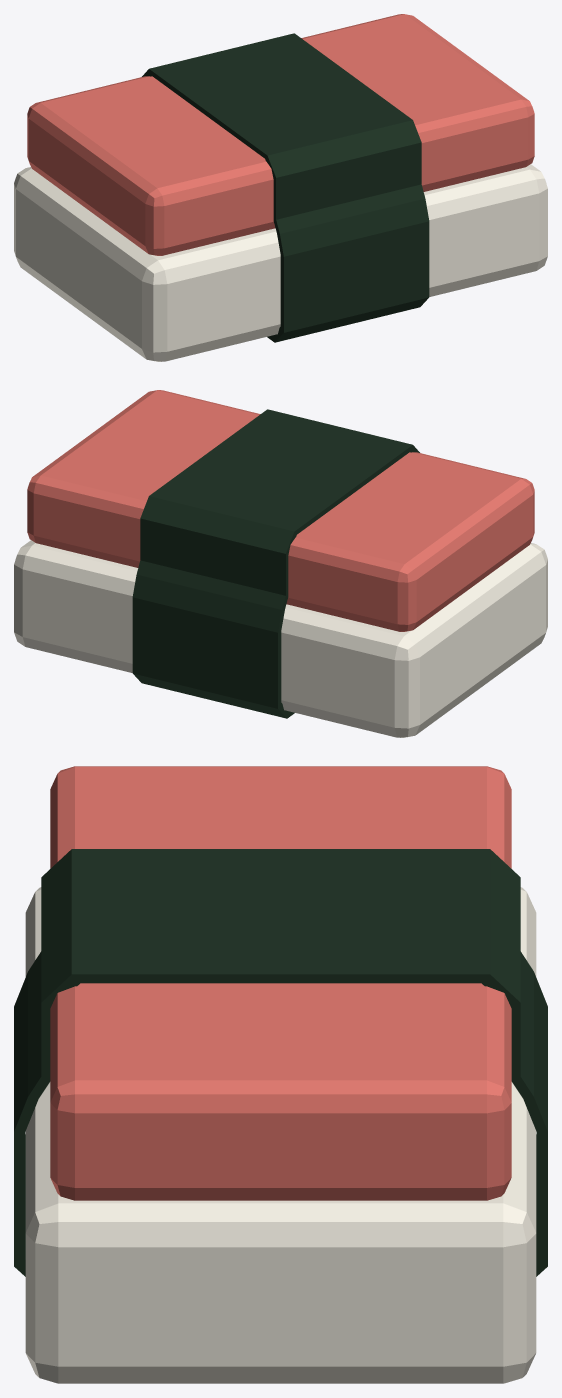
Rendered from musubi.glb.
The picture shows the model from 3 angles, top to bottom: view 1: azimuth 30°, elevation 25°; view 2: azimuth 150°, elevation 25°; view 3: azimuth 270°, elevation 25°; orthographic projection. The views are drawn at different scales.
Parts seen in each view (by area): view 1: musubi; view 2: musubi; view 3: musubi.
Part boxes in pixels (box(x1,y1,x2,y2)): musubi: box(14, 14, 547, 361); musubi: box(14, 390, 547, 737); musubi: box(14, 766, 547, 1383).
Bounding box in the file's own units: 1 × 0.43 × 0.648.
